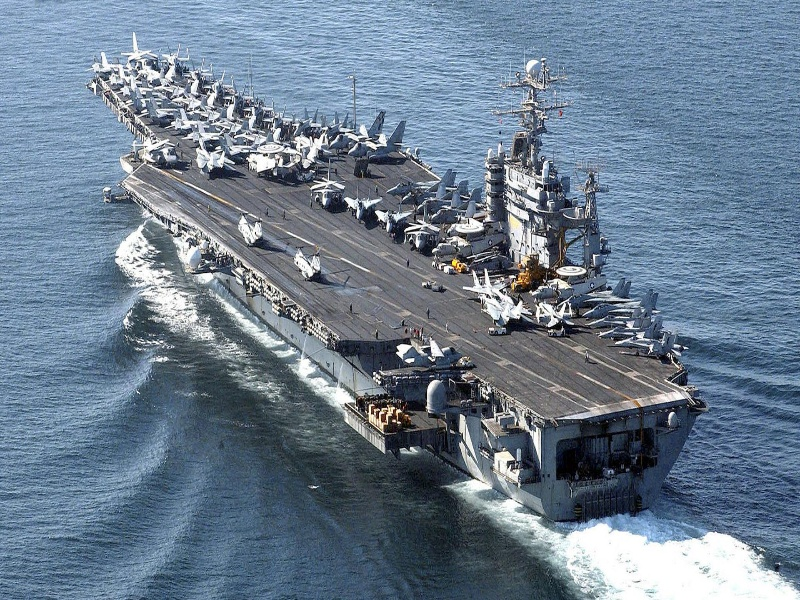carrier: (102, 26, 702, 539)
